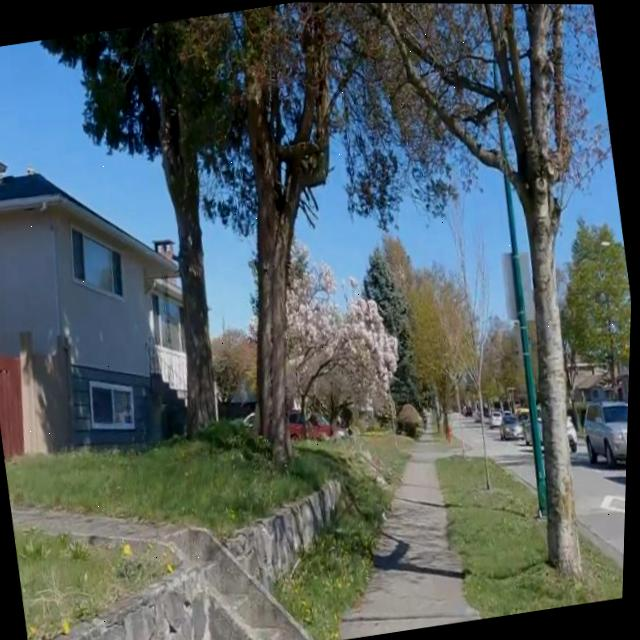Automobile: (587, 400, 631, 467), (502, 412, 524, 438)
Road: (575, 439, 629, 560), (491, 429, 537, 487)
Sidewalk: (342, 442, 484, 640)
